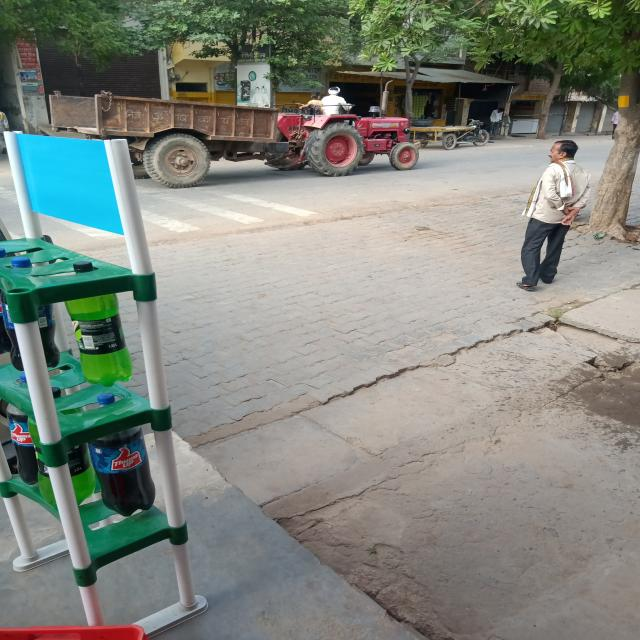Tractor: (56, 91, 436, 181)
